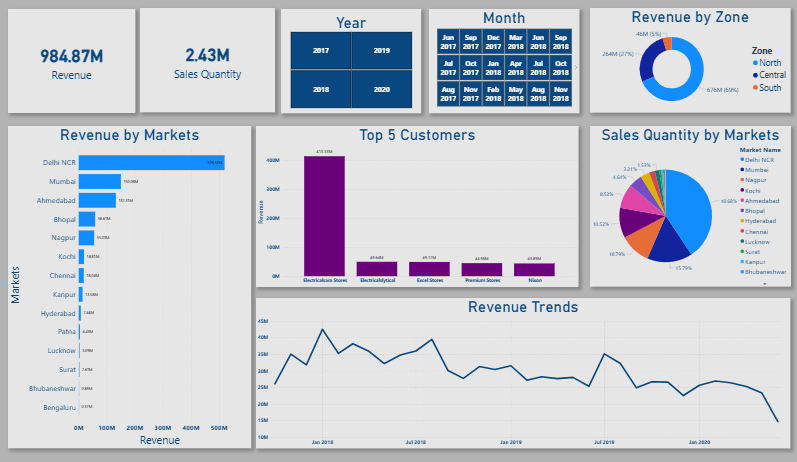

This screenshot's page, from the dashboard's own definition file:
{"tool":"powerbi","page":{"name":"Page 1","canvas":[2500,1450],"ordinal":0},"visuals":[{"type":"card","title":"Revenue","fields":{"Values":["BaseMeasures.Revenue"]},"box":[27.5,30,397.5,325],"z":0},{"type":"card","fields":{"Values":["BaseMeasures.Sales Qty"]},"box":[441.1,28.9,422.2,325.6],"z":1000},{"type":"barChart","title":"Revenue by Markets","fields":{"Category":["sales markets.markets_name"],"Y":["BaseMeasures.Revenue"]},"box":[26.7,396.7,760,1006.7],"z":2000},{"type":"pieChart","title":"Sales Quantity by Markets","fields":{"Category":["sales markets.markets_name"],"Y":["BaseMeasures.Sales Quantity"]},"box":[1846.7,398.3,628.3,501.7],"z":3000},{"type":"slicer","title":"Year","fields":{"Values":["sales date.year"]},"box":[880,30,437.8,325.6],"z":4000},{"type":"slicer","title":"Month","fields":{"Values":["sales date.cy_date"]},"box":[1342.2,30,470,325.6],"z":5000},{"type":"columnChart","title":"Top 5 Customers","fields":{"Category":["sales customers.custmer_name"],"Y":["BaseMeasures.Revenue"]},"box":[803.3,396.7,1008.3,503.3],"z":6000},{"type":"lineChart","title":"Revenue Trends","fields":{"Y":["BaseMeasures.Revenue"],"Category":["sales date.cy_date"]},"box":[803.3,933.3,1670,470],"z":8000},{"type":"donutChart","title":"Revenue by Zone","fields":{"Category":["sales markets.zone"],"Y":["BaseMeasures.Revenue"]},"box":[1846.7,28.9,626.7,326.7],"z":9000}]}

Visuals, with their boxes in screenshot pixels (x1, y1, x2, y2), scaled from the page's 2500x1450 canvas onto the 797x462 screenshot:
"Revenue" card: Rect(9, 10, 135, 113)
card - BaseMeasures.Sales Qty: Rect(141, 9, 275, 113)
"Revenue by Markets" barChart: Rect(9, 126, 251, 447)
"Sales Quantity by Markets" pieChart: Rect(589, 127, 789, 287)
"Year" slicer: Rect(281, 10, 420, 113)
"Month" slicer: Rect(428, 10, 578, 113)
"Top 5 Customers" columnChart: Rect(256, 126, 578, 287)
"Revenue Trends" lineChart: Rect(256, 297, 788, 447)
"Revenue by Zone" donutChart: Rect(589, 9, 789, 113)
